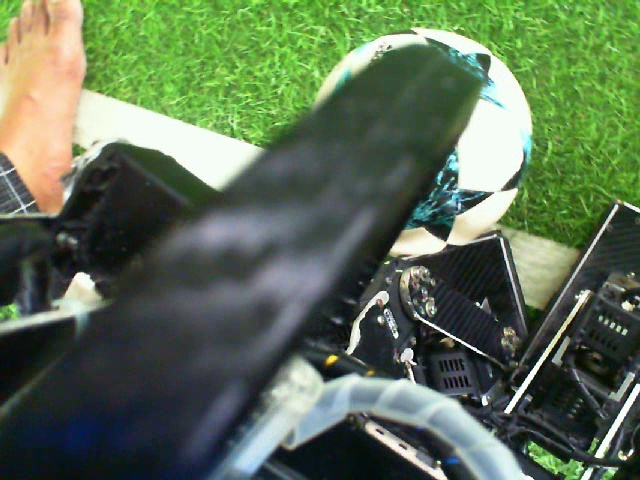ball: (383, 61, 536, 267)
